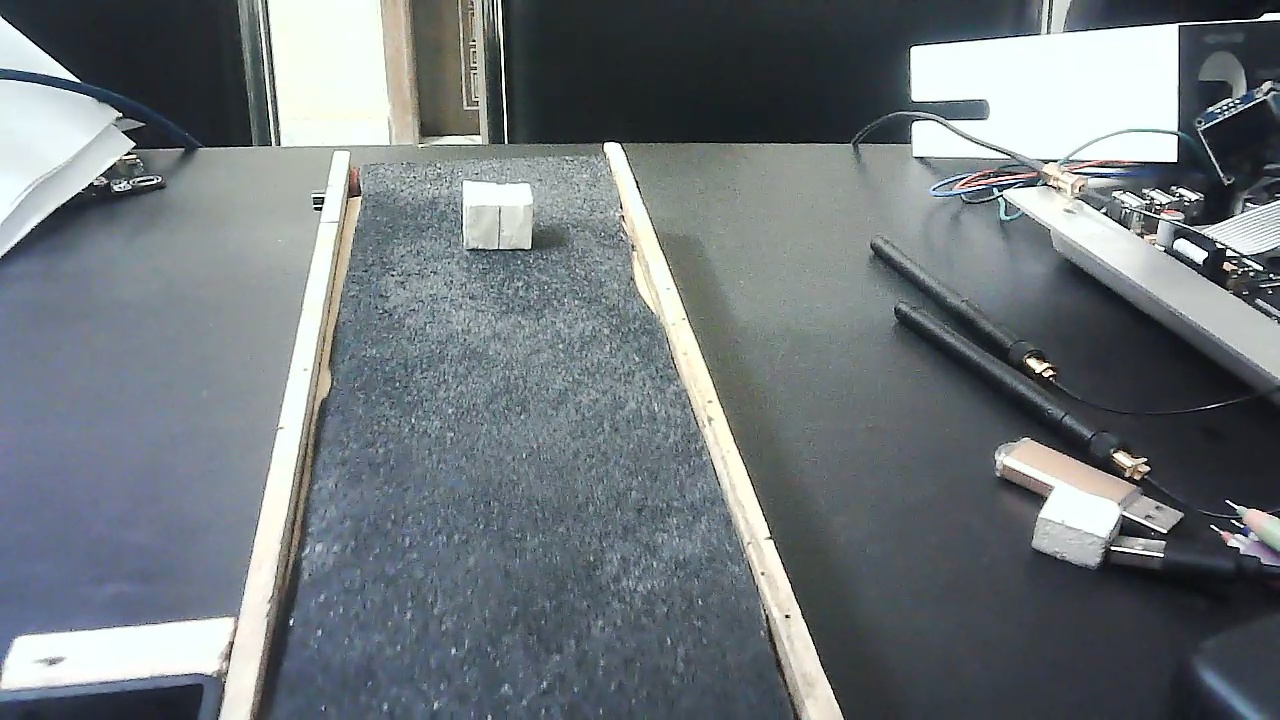Small: (460, 179, 534, 253)
